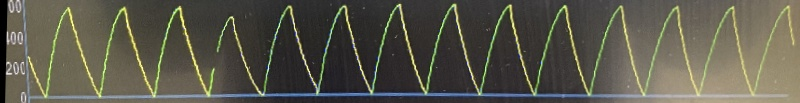normal_volume: (40, 0, 778, 103)
